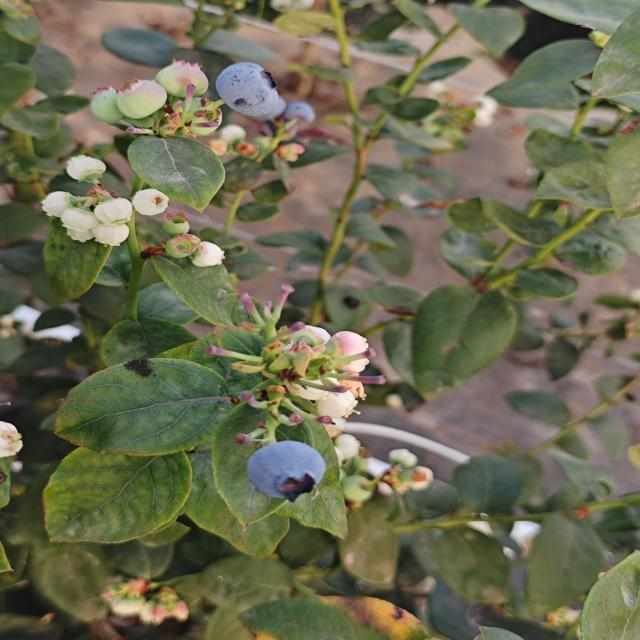ripe: (239, 438, 343, 508), (213, 61, 285, 120), (261, 97, 317, 140)
